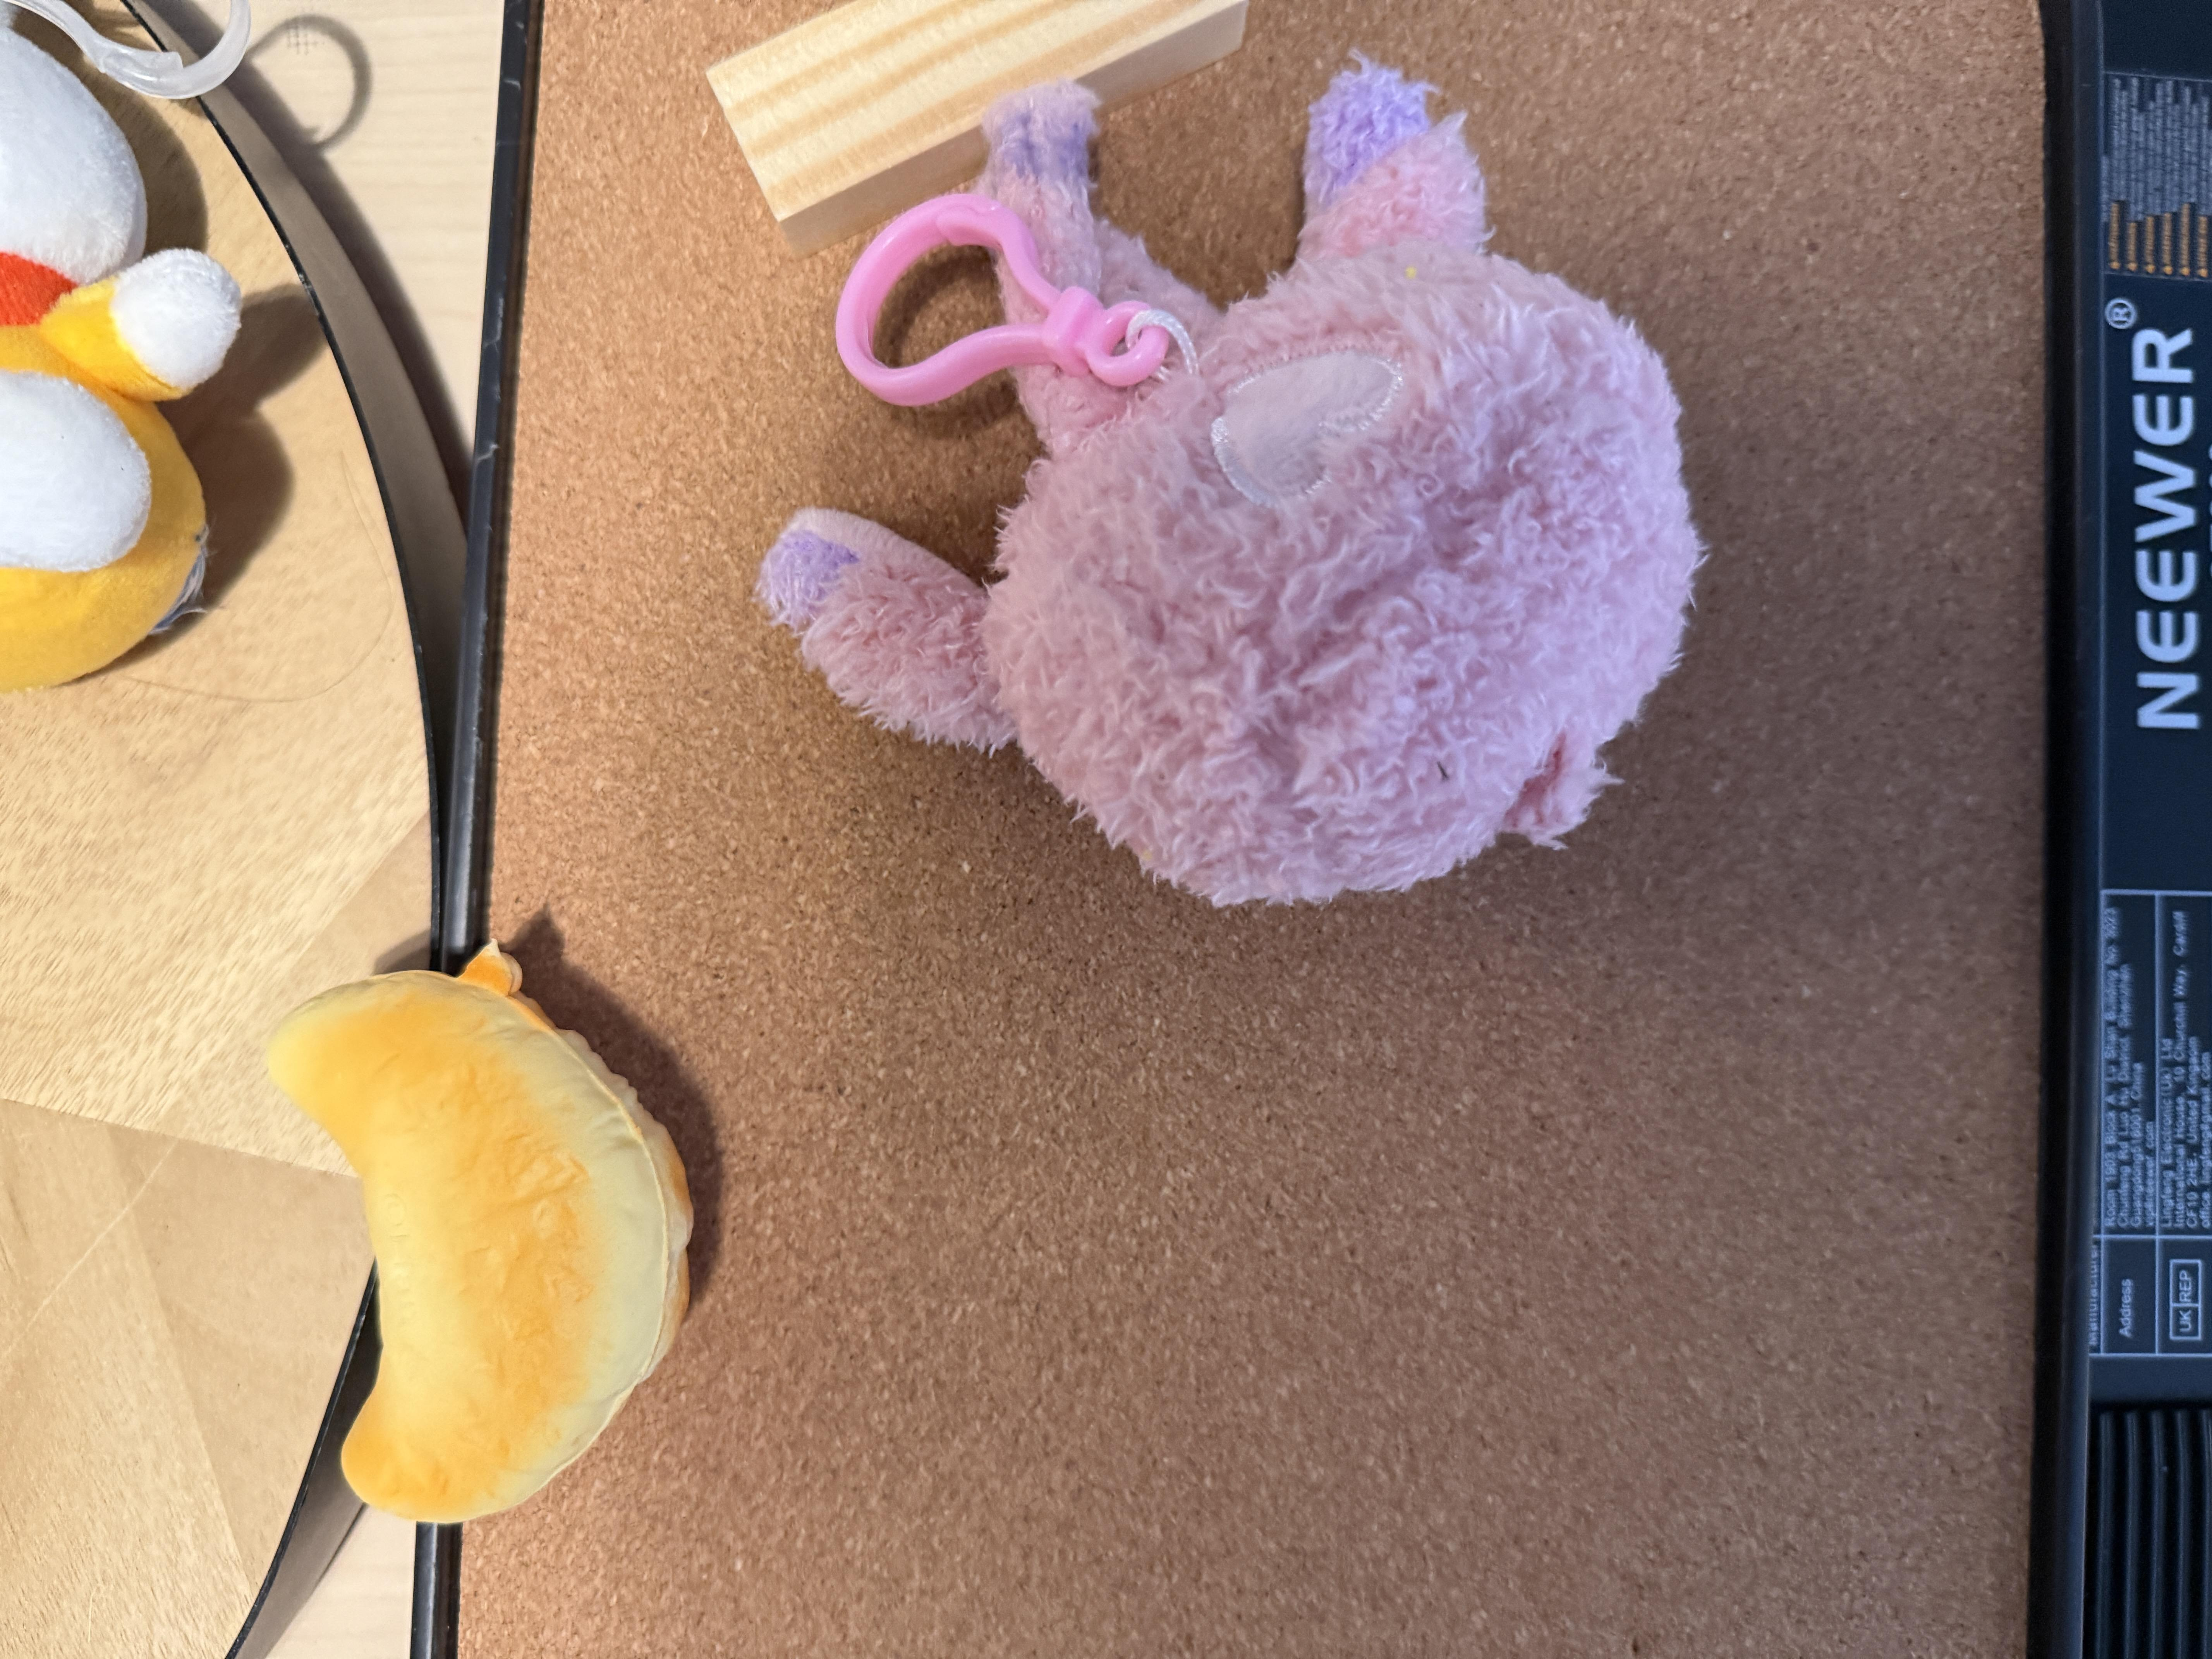block: (705, 0, 1249, 256)
bread: (263, 948, 709, 1525)
doll: (773, 84, 1705, 906), (0, 0, 240, 697)
